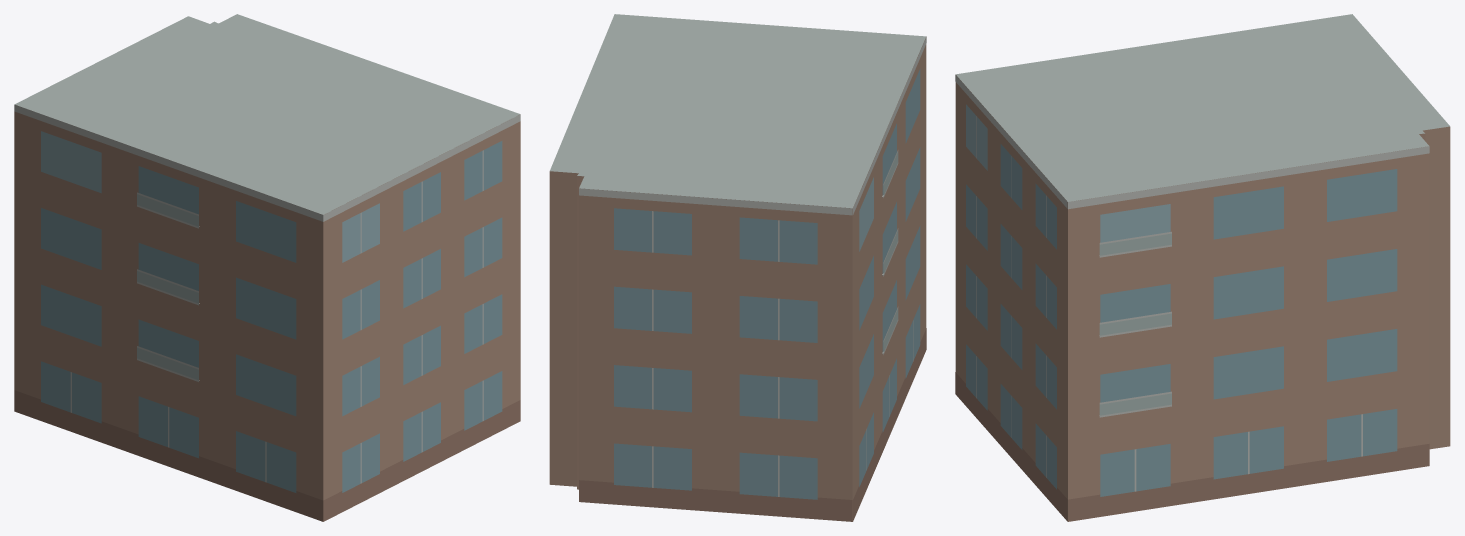
File: survey-upis-32977529.glb
The picture shows the model from 3 angles, left to right: view 1: azimuth 30°, elevation 25°; view 2: azimuth 150°, elevation 25°; view 3: azimuth 270°, elevation 25°; orthographic projection. The views are drawn at different scales.
Parts seen in each view (by area): view 1: survey-upis-32977529.tmp; view 2: survey-upis-32977529.tmp; view 3: survey-upis-32977529.tmp.
Boxes of the visible parts, <box> form: survey-upis-32977529.tmp: <box>14,14,520,521</box>; survey-upis-32977529.tmp: <box>549,14,926,521</box>; survey-upis-32977529.tmp: <box>955,14,1450,521</box>.
Bounding box in the file's own units: 13.56 × 10.75 × 15.09.
